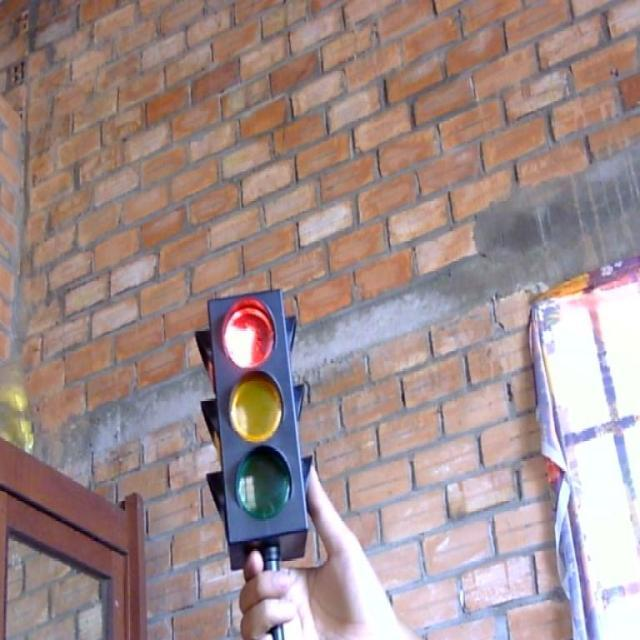red light: (213, 289, 284, 376)
